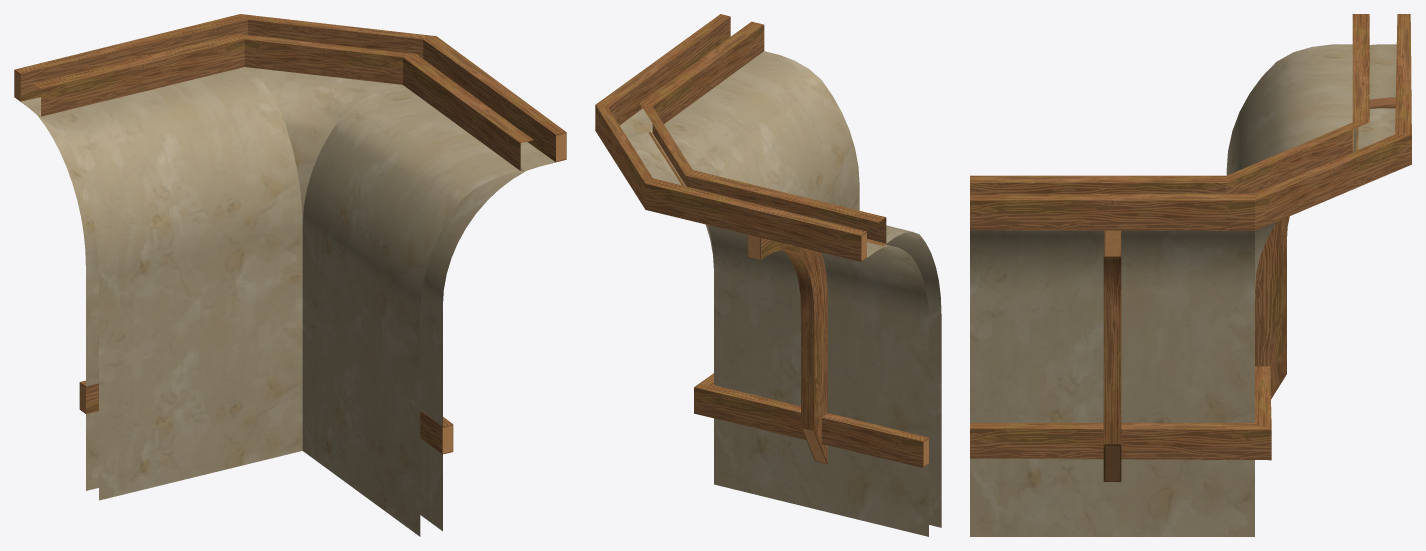
File: Overhang_Plaster_Corner.gltf
3 views of the same model, side by side, from view 1: azimuth 30°, elevation 25°; view 2: azimuth 150°, elevation 25°; view 3: azimuth 270°, elevation 25° (orthographic). The views are drawn at different scales.
Visible parts, largest first — view 1: Overhang_Plaster_Corner; view 2: Overhang_Plaster_Corner; view 3: Overhang_Plaster_Corner.
Part boxes in pixels (<box>): Overhang_Plaster_Corner: <box>14,14,566,536</box>; Overhang_Plaster_Corner: <box>595,14,941,536</box>; Overhang_Plaster_Corner: <box>970,14,1411,536</box>.
Size of the model in its own units: 3.1 by 3.12 by 3.1.
2 materials, 2 textured.
